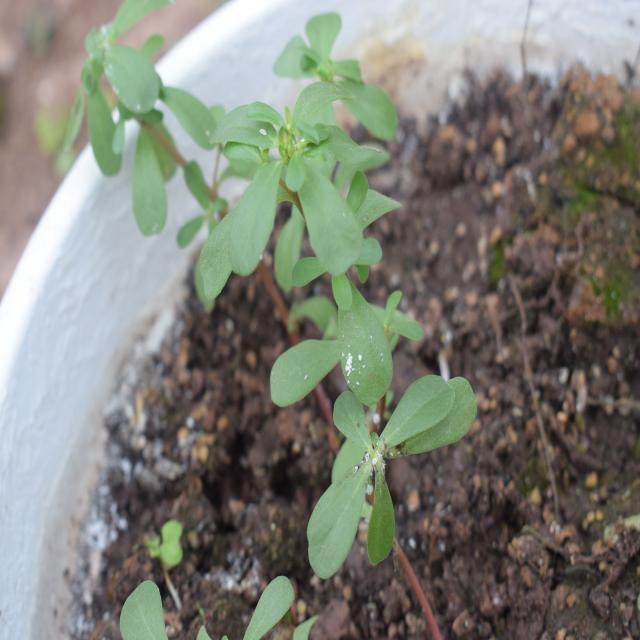purslane: (189, 84, 466, 568), (59, 20, 276, 291)
